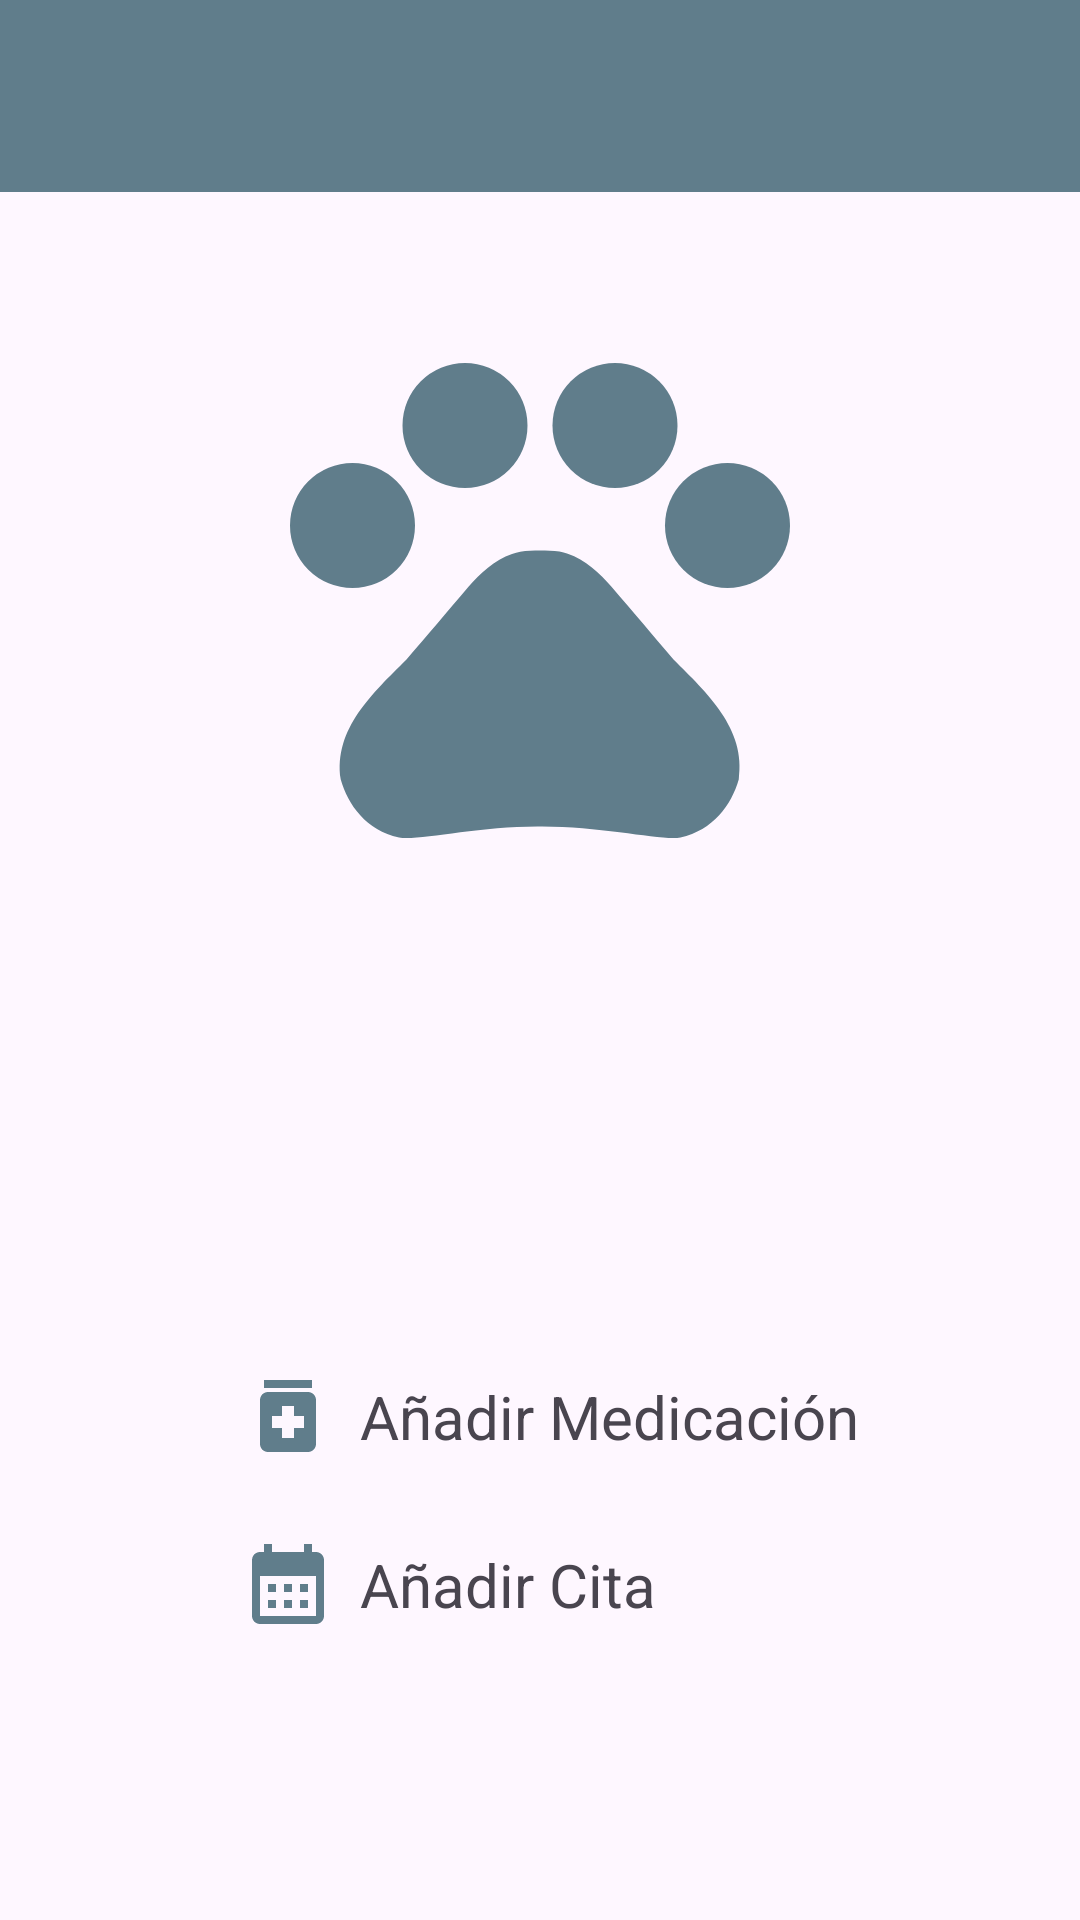

Icons on this 1080w x 1920h Android screen, each with its box as (x1, y1, x2, y2):
calendar month: (252, 1544, 324, 1624)
medication: (260, 1380, 316, 1452)
